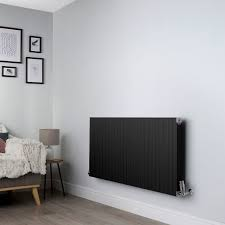Radiator: (86, 115, 194, 200)
